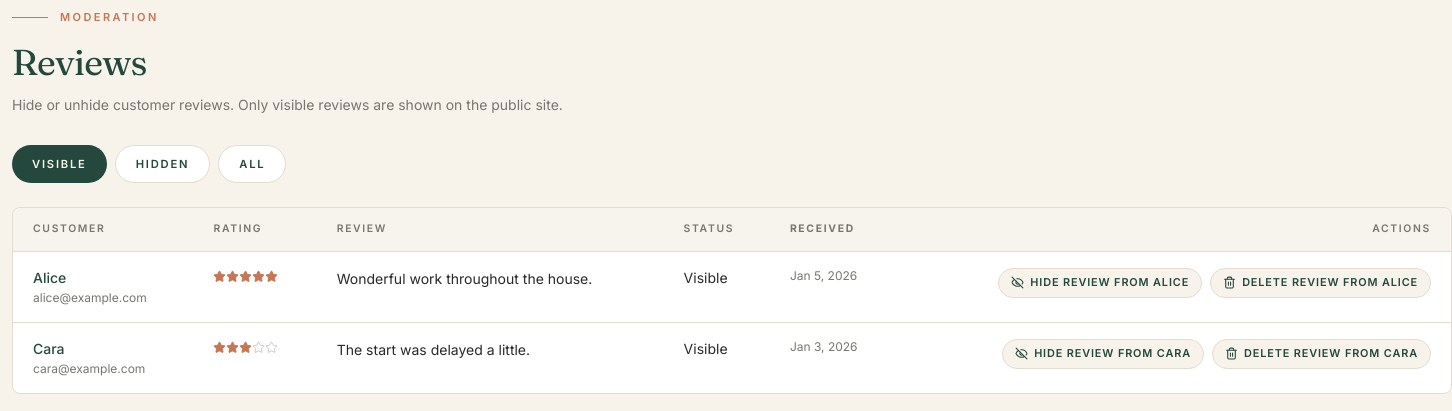
AdminReviewModerationPage › hides a visible review
Expected: the text "Alice" is shown, [33, 269, 66, 286]
What coordinates should you click on to do the following:
click the button "Hide review from Alice"
I would click on:
 (1100, 283)
Its box is [998, 268, 1202, 298].
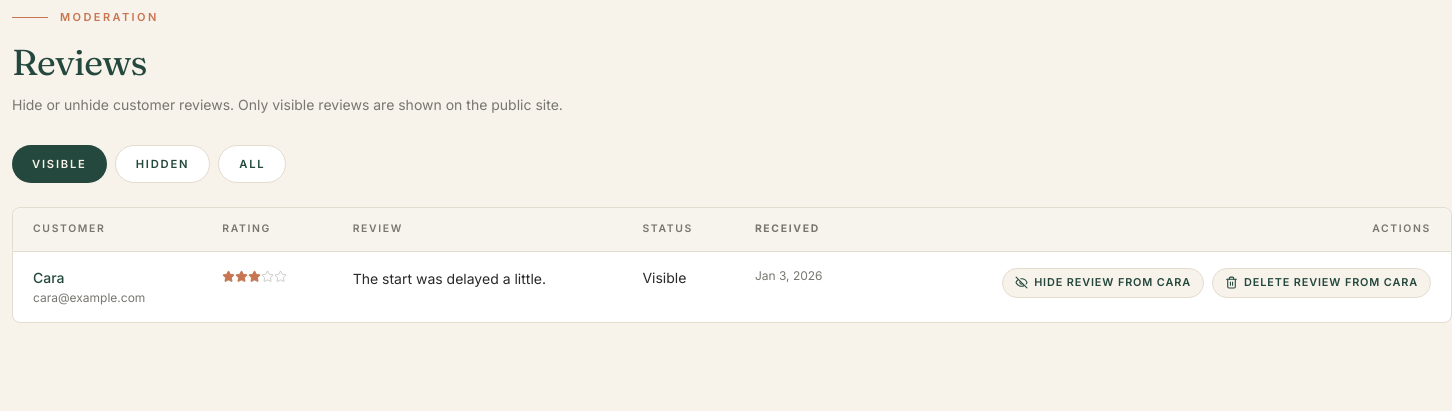
Result: the text "Alice" is gone
